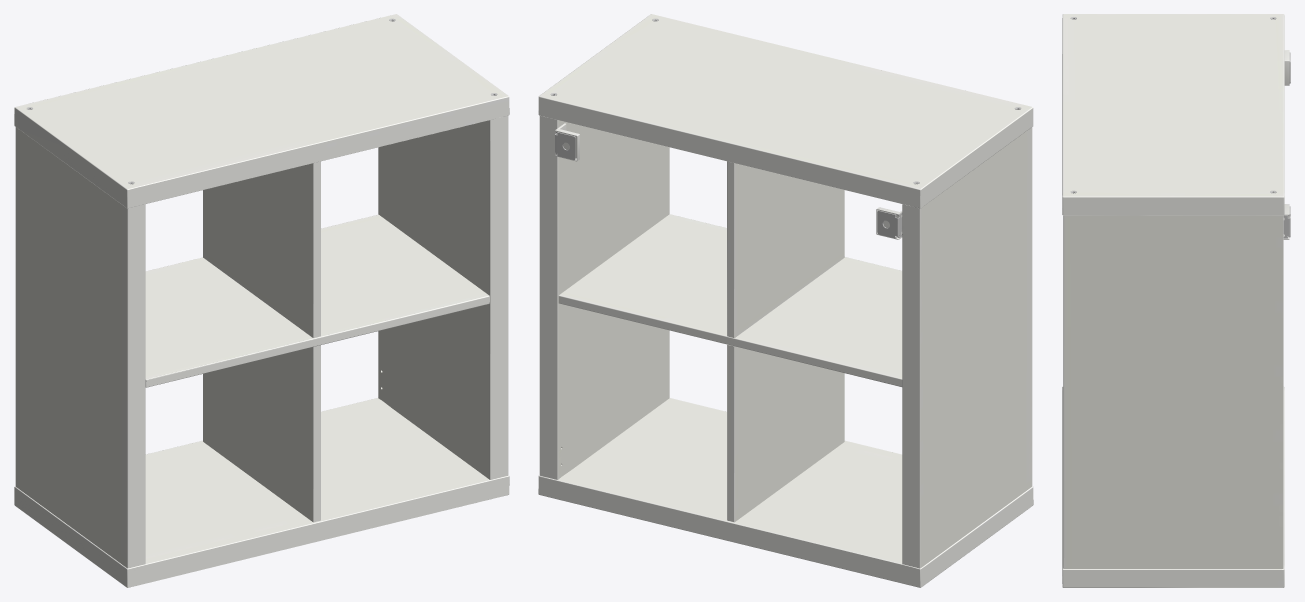
File: kallax_rega_20275814.glb
The picture shows the model from 3 angles, left to right: view 1: azimuth 30°, elevation 25°; view 2: azimuth 150°, elevation 25°; view 3: azimuth 270°, elevation 25°; orthographic projection.
Visible parts, largest first — view 1: kallax_rega_20275814; view 2: kallax_rega_20275814; view 3: kallax_rega_20275814.
Boxes of the visible parts, x1=… form: kallax_rega_20275814: x1=14, y1=14, x2=509, y2=587; kallax_rega_20275814: x1=538, y1=14, x2=1033, y2=587; kallax_rega_20275814: x1=1062, y1=14, x2=1290, y2=587.
Bounding box in the file's own units: 0.765 × 0.7655 × 0.4025.
Materials: 1 (1 with a texture image).
